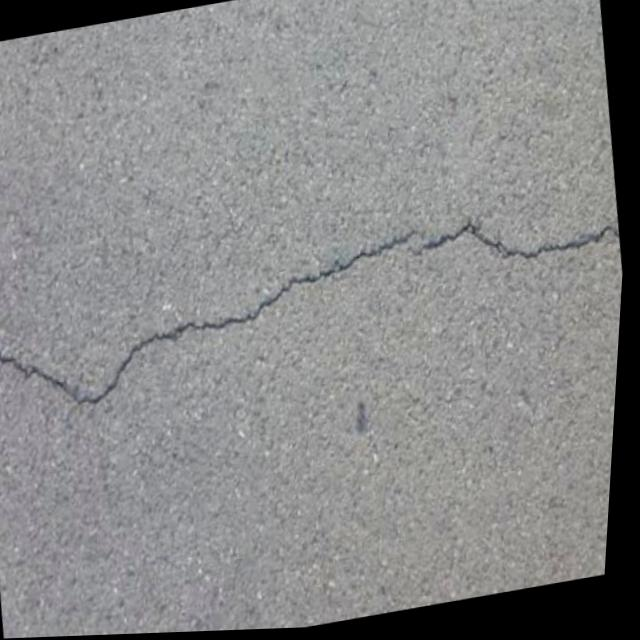Crack: (0, 193, 630, 441)
